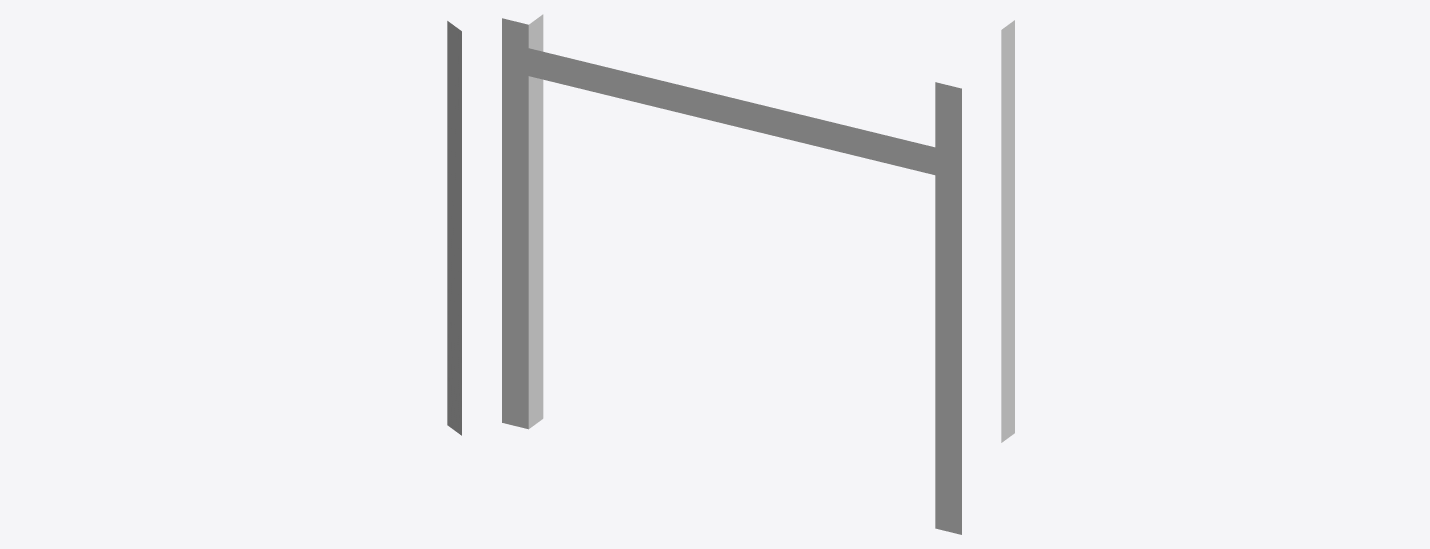
Rendered from COL_MEI_KASENCHU.glb.
The picture shows the model from 3 angles, left to right: view 1: azimuth 30°, elevation 25°; view 2: azimuth 150°, elevation 25°; view 3: azimuth 330°, elevation 25°; orthographic projection. The views are drawn at different scales.
Visible parts, largest first — view 1: Mesh1; view 2: Mesh1; view 3: Mesh1.
Boxes of the visible parts, x1,y1,x2,y2 form: Mesh1: [447, 21, 461, 435]; Mesh1: [502, 14, 961, 534]; Mesh1: [1001, 20, 1014, 442].
Bounding box in the file's own units: 34.47 × 31.98 × 1.92.
Materials: 1 (1 with a texture image).
